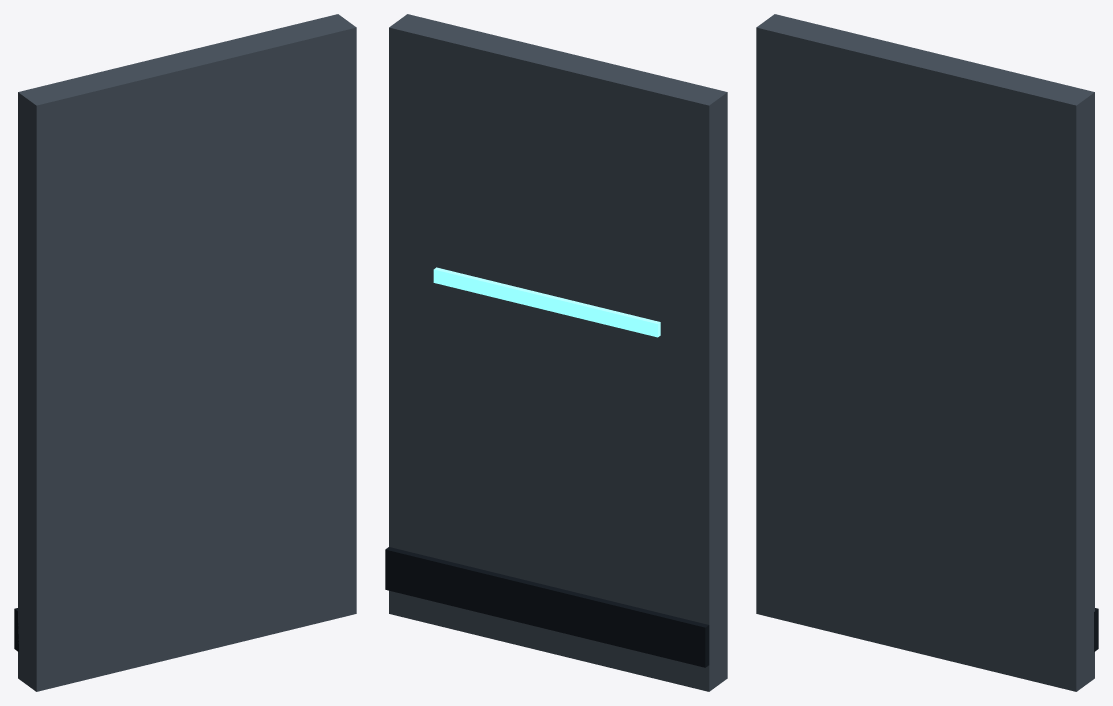
File: np_kms_05_mur_plein.glb
3 views of the same model, side by side, from view 1: azimuth 30°, elevation 25°; view 2: azimuth 150°, elevation 25°; view 3: azimuth 330°, elevation 25° (orthographic).
Parts seen in each view (by area): view 1: Panneau; view 2: Panneau, RailBas, Bandeau; view 3: Panneau.
Part boxes in pixels (x1,y1,x2,y2): Panneau: (18,14,356,691); Panneau: (389,14,727,691); RailBas: (385,547,709,667); Bandeau: (433,267,660,337); Panneau: (756,14,1094,691).
Size of the model in its own units: 2 by 3.5 by 0.24.
